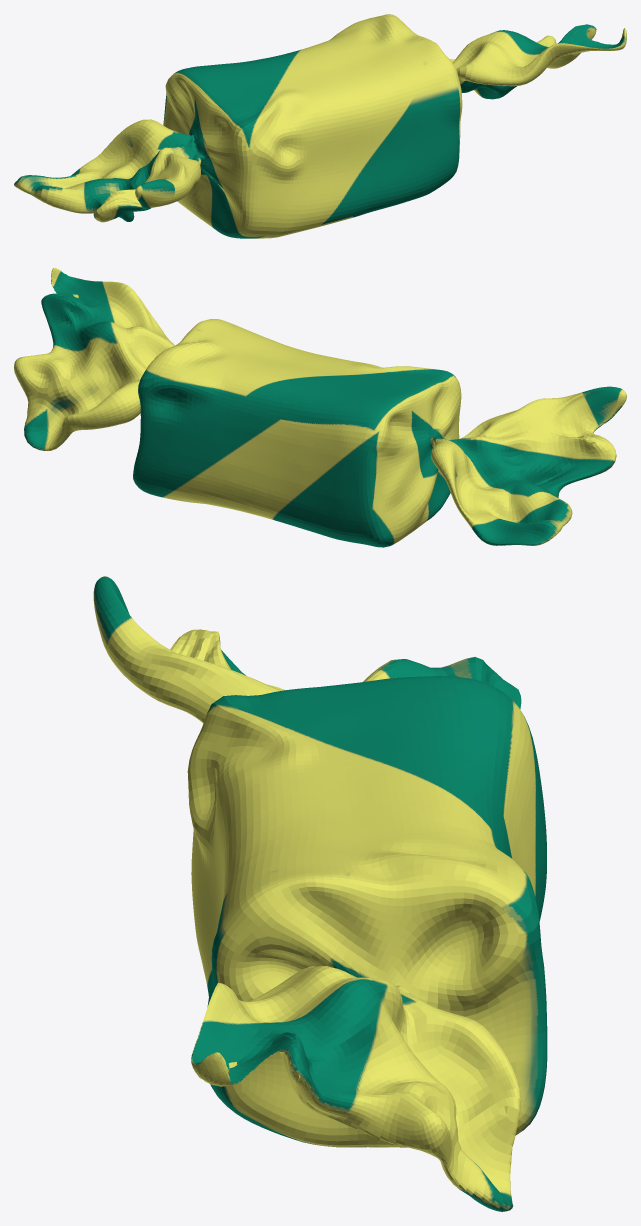
Rendered from caramelo.fbx.
The picture shows the model from 3 angles, top to bottom: view 1: azimuth 30°, elevation 25°; view 2: azimuth 150°, elevation 25°; view 3: azimuth 270°, elevation 25°; orthographic projection. The views are drawn at different scales.
Visible parts, largest first — view 1: caramelo; view 2: caramelo; view 3: caramelo.
Part boxes in pixels (x1=…): caramelo: x1=14, y1=14, x2=626, y2=238; caramelo: x1=14, y1=267, x2=626, y2=547; caramelo: x1=93, y1=576, x2=547, y2=1211.
Bounding box in the file's own units: 1.49 × 0.3803 × 0.5358.
1 material, 1 textured.
